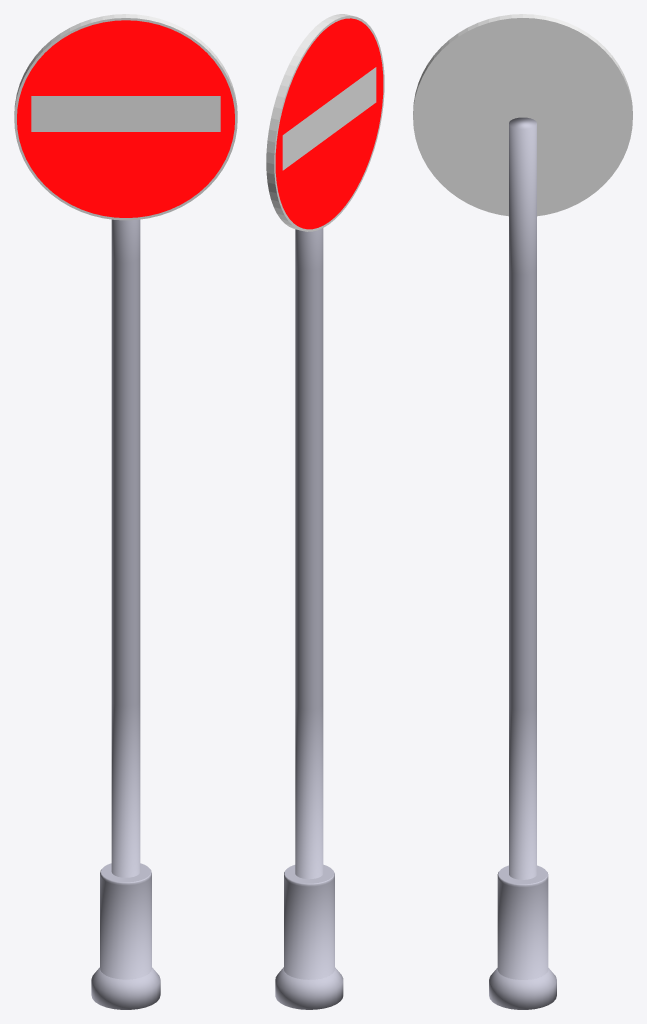
The model's file is GirisiOlmayanYolTabelasi.dae.
3 views of the same model, side by side, from view 1: azimuth 90°, elevation 25°; view 2: azimuth 150°, elevation 25°; view 3: azimuth 270°, elevation 25° (orthographic).
Visible parts, largest first — view 1: NotEntry_sing, NotEntry_body; view 2: NotEntry_body, NotEntry_sing; view 3: NotEntry_sing, NotEntry_body.
Part boxes in pixels (bbox=[...]): NotEntry_sing: bbox=[14, 14, 237, 220]; NotEntry_body: bbox=[91, 219, 160, 1009]; NotEntry_body: bbox=[275, 228, 343, 1009]; NotEntry_sing: bbox=[266, 14, 384, 231]; NotEntry_sing: bbox=[413, 14, 632, 216]; NotEntry_body: bbox=[489, 117, 556, 1009].
Bounding box in the file's own units: 0.1839 × 0.6 × 2.93.
